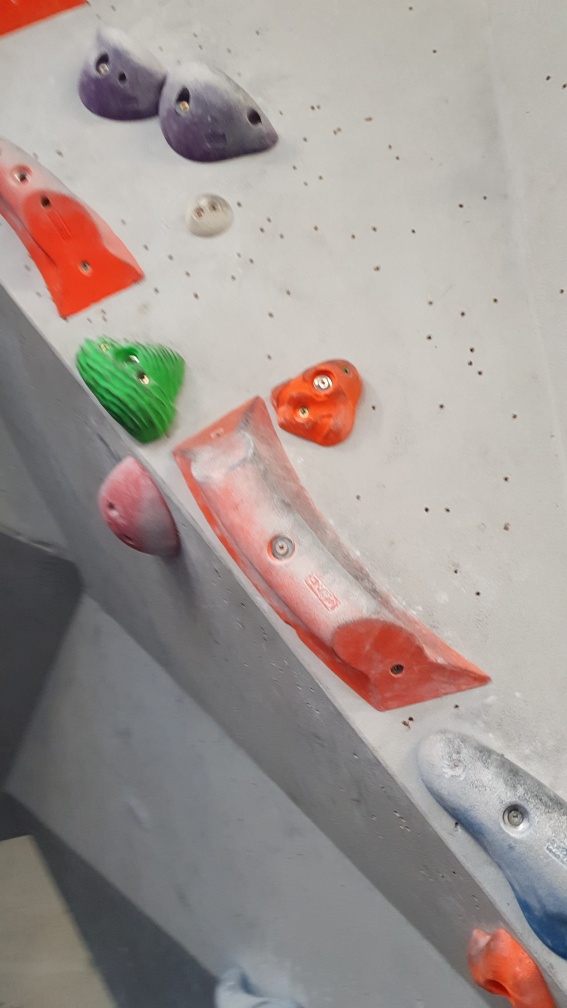Jug: (151, 54, 283, 165), (73, 328, 185, 442), (74, 20, 168, 123), (212, 957, 300, 1008)
Pinch: (176, 398, 495, 709), (418, 725, 567, 960), (1, 133, 146, 323)
Sloper: (96, 449, 187, 560)
